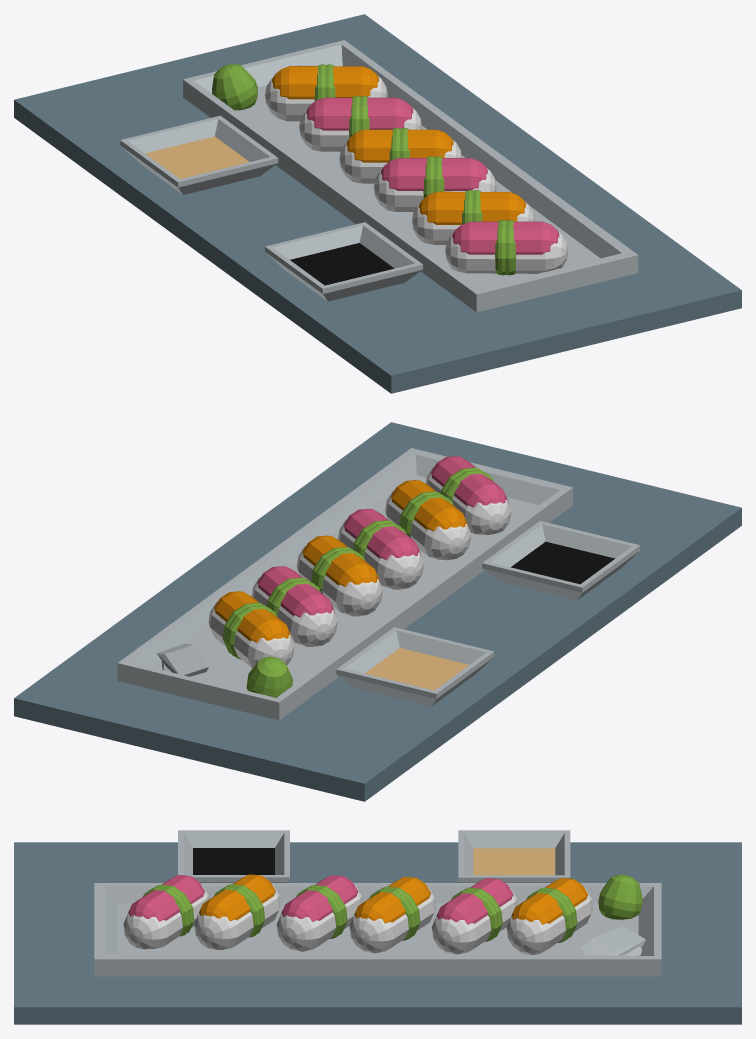
The picture shows the model from 3 angles, top to bottom: view 1: azimuth 30°, elevation 25°; view 2: azimuth 150°, elevation 25°; view 3: azimuth 270°, elevation 25°; orthographic projection. The views are drawn at different scales.
Parts seen in each view (by area): view 1: node_MeshObject-1970277056-PolyPaper21, node_MeshObject249809984-PolyPaper21; view 2: node_MeshObject-1970277056-PolyPaper21, node_MeshObject249809984-PolyPaper21; view 3: node_MeshObject-1970277056-PolyPaper21, node_MeshObject249809984-PolyPaper21.
Part boxes in pixels (bbox=[...]): node_MeshObject-1970277056-PolyPaper21: bbox=[14, 14, 741, 393]; node_MeshObject249809984-PolyPaper21: bbox=[120, 40, 638, 312]; node_MeshObject-1970277056-PolyPaper21: bbox=[14, 422, 741, 801]; node_MeshObject249809984-PolyPaper21: bbox=[117, 448, 614, 720]; node_MeshObject-1970277056-PolyPaper21: bbox=[14, 830, 741, 1024]; node_MeshObject249809984-PolyPaper21: bbox=[94, 830, 661, 976].
Size of the model in its own units: 1.02 by 0.2006 by 1.9.
